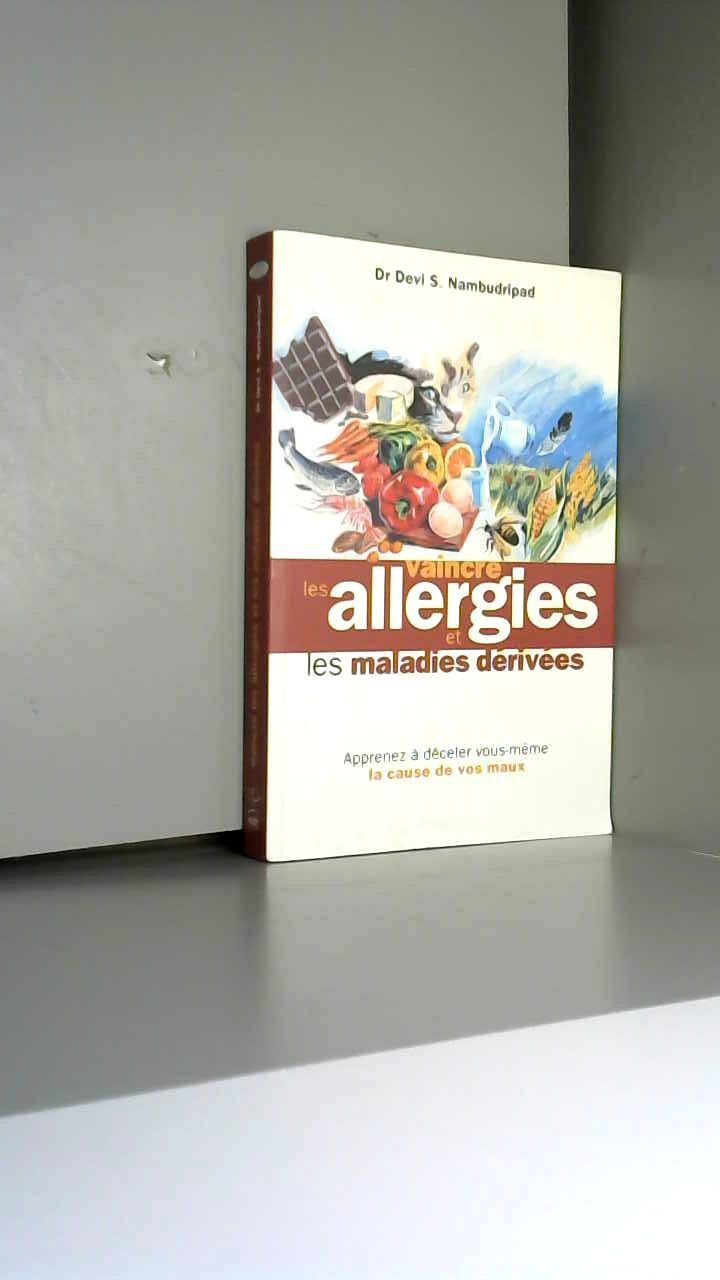book: (210, 200, 716, 937)
